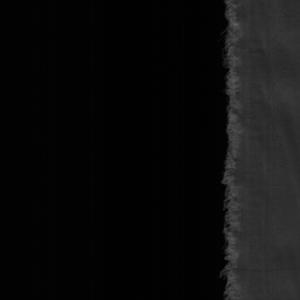Damage: (216, 1, 252, 300)
